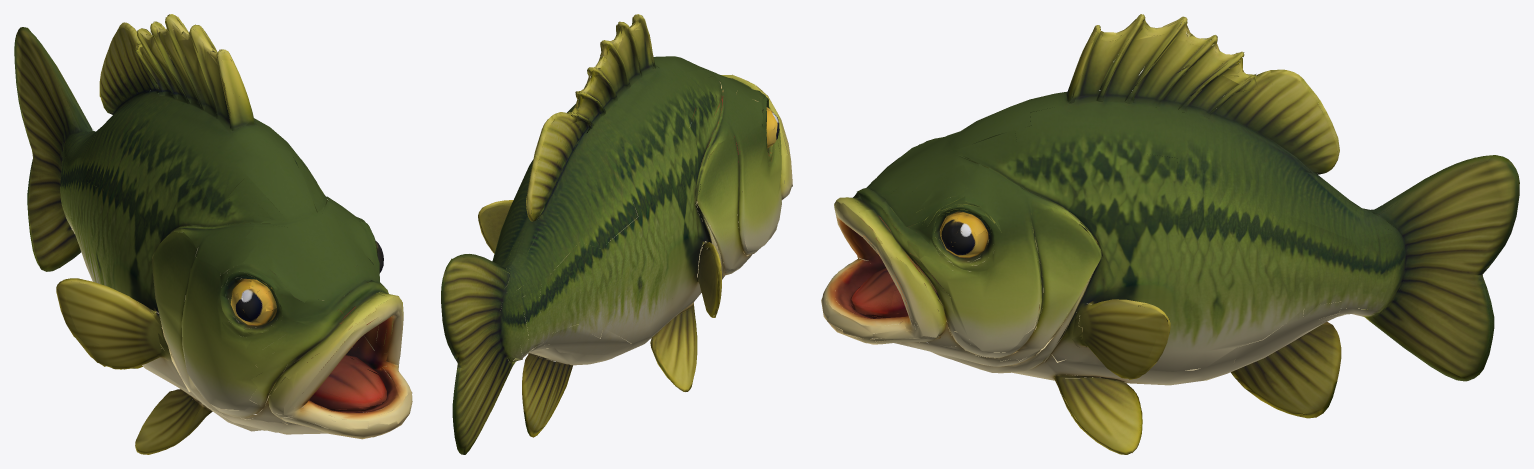
Rendered from pohon_alun_alun.fbx.
3 renders of one model, left to right at view 1: azimuth 30°, elevation 25°; view 2: azimuth 150°, elevation 25°; view 3: azimuth 270°, elevation 25°, orthographic. The views are drawn at different scales.
Parts seen in each view (by area): view 1: tripo_node_4263e17d-056d-4230-bee0-3197418e1387; view 2: tripo_node_4263e17d-056d-4230-bee0-3197418e1387; view 3: tripo_node_4263e17d-056d-4230-bee0-3197418e1387.
Part boxes in pixels (x1,y1,x2,y2): tripo_node_4263e17d-056d-4230-bee0-3197418e1387: (14, 14, 412, 454); tripo_node_4263e17d-056d-4230-bee0-3197418e1387: (441, 14, 792, 454); tripo_node_4263e17d-056d-4230-bee0-3197418e1387: (821, 14, 1519, 454).
Bounding box in the file's own units: 1128 × 1600 × 2542.
1 material, 1 textured.
